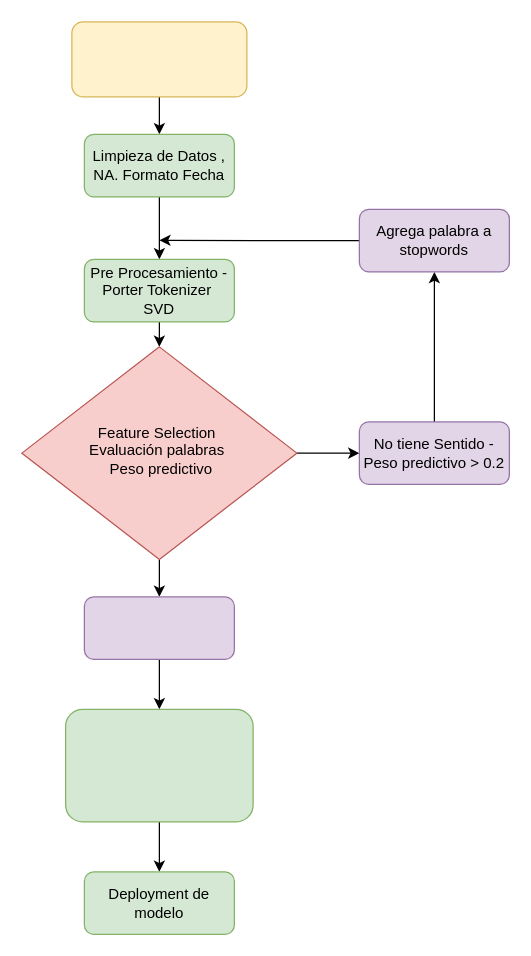
Some shapes in this 531 by 956 pixel diagram are drawn without their labels. The shapes that lost their labels are listed below. From the top down, each one's centre as x and y in pixels, then its label:
At point 159,59: "RAW DATASET".
At point 158,627: "Tiene sentido - Peso predictivo < 0.2".
At point 158,765: "Evaluación de modelos".
